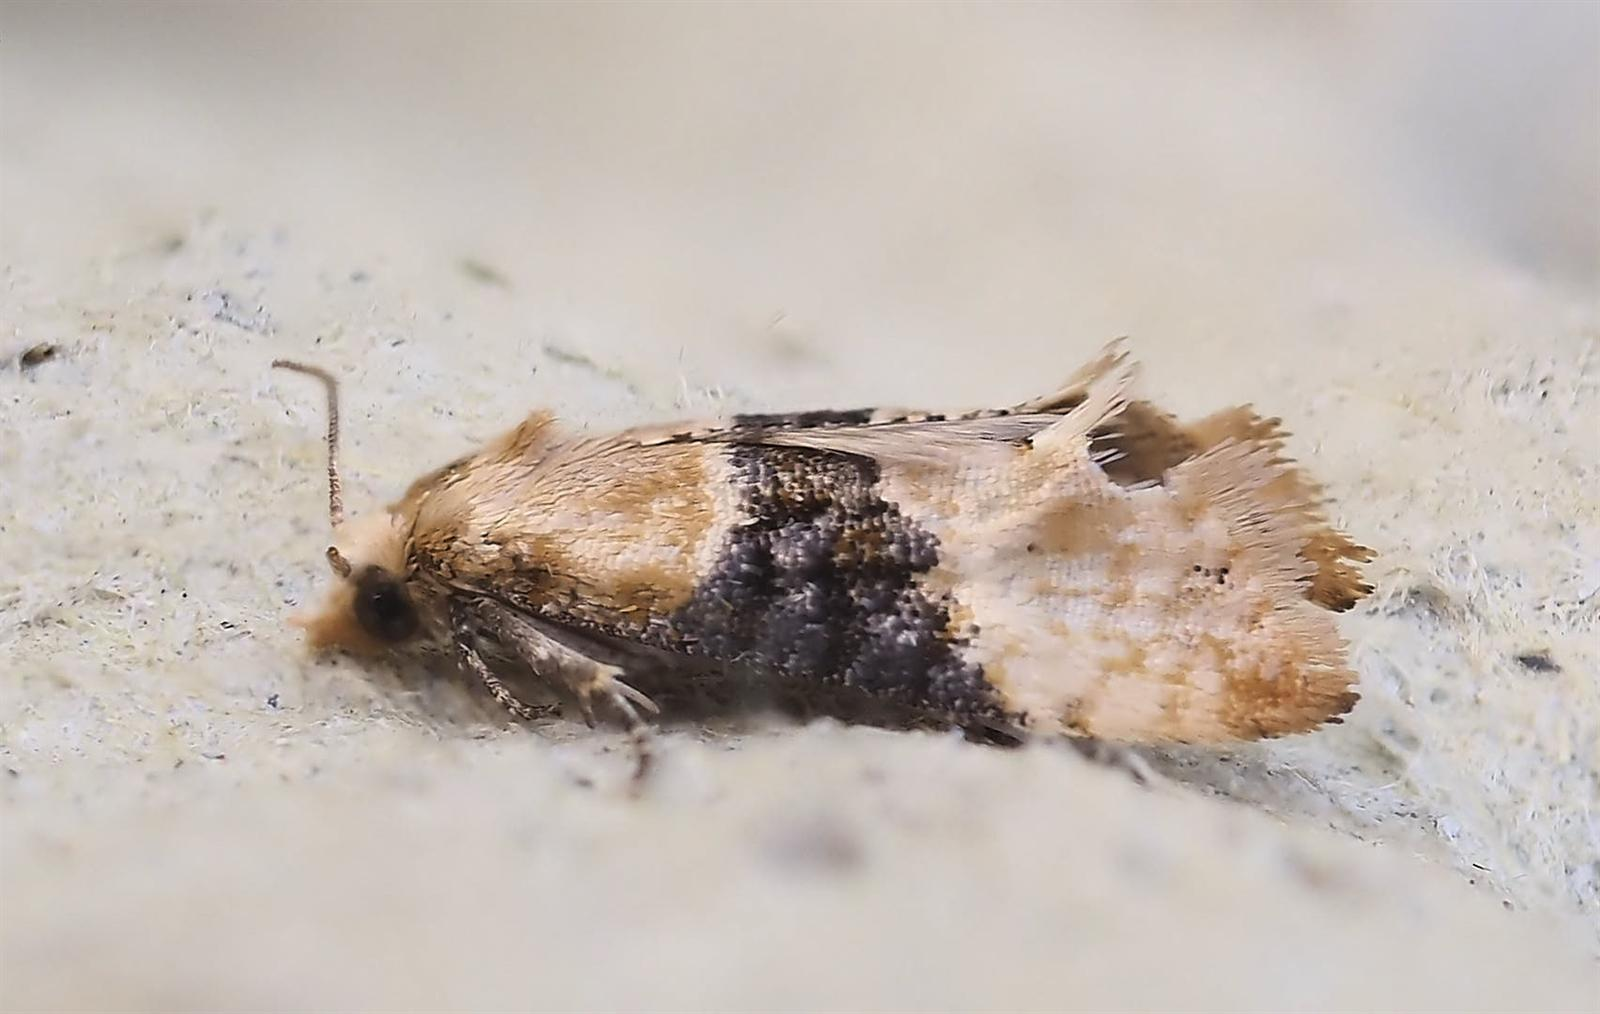Eupoecilia Ambiguella: (266, 332, 1381, 754)
